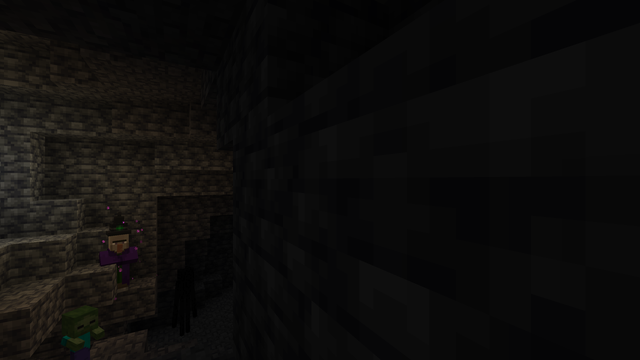endermens: (176, 263, 192, 339)
sorcieres: (104, 229, 130, 295)
zombies: (66, 313, 91, 359)
